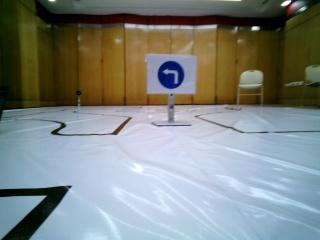left: (154, 60, 187, 93)
